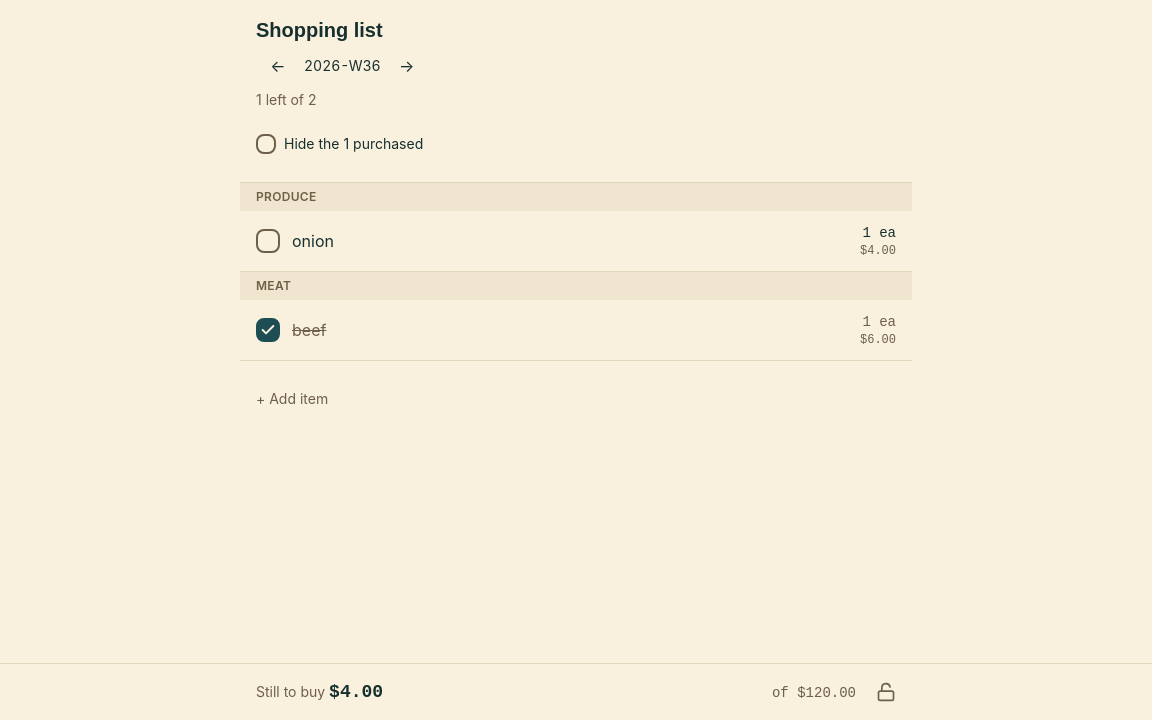
it: hiding what is already purchased › keeps a mis-tap recoverable, without turning hiding off
Click the checkbox labelled "Hide the 1 purchased" at (266, 144), box [256, 134, 276, 154]
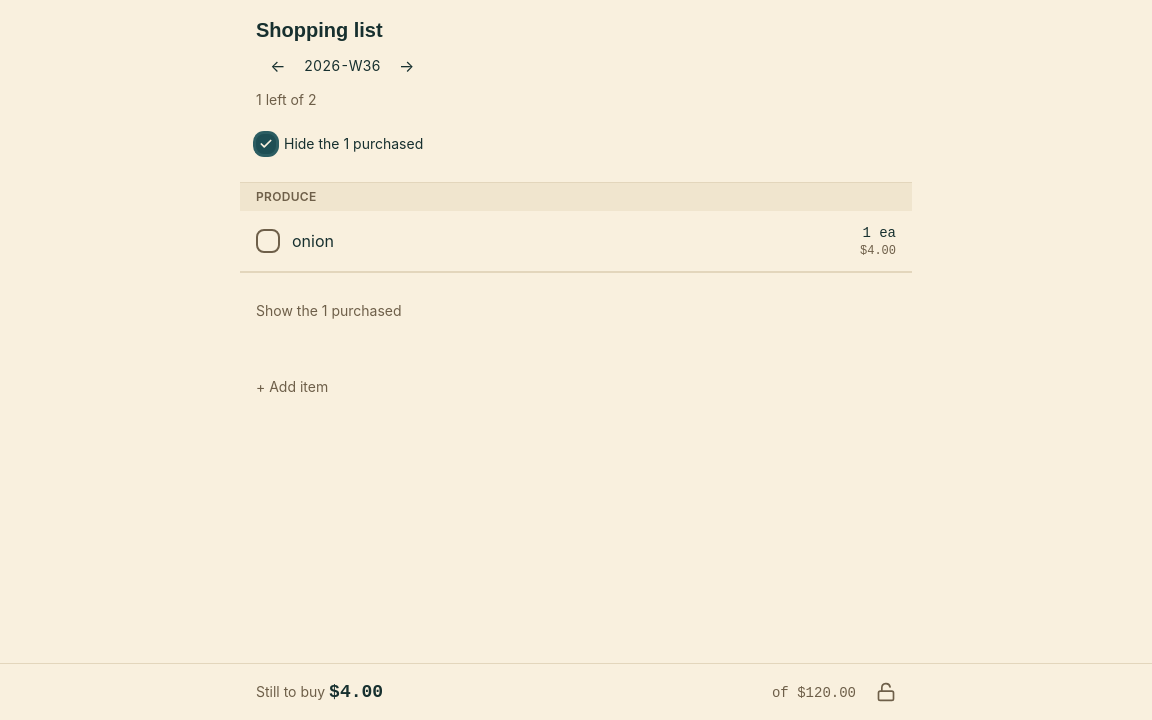
Click the button "Show the 1 purchased" at (329, 311), box [256, 289, 402, 333]
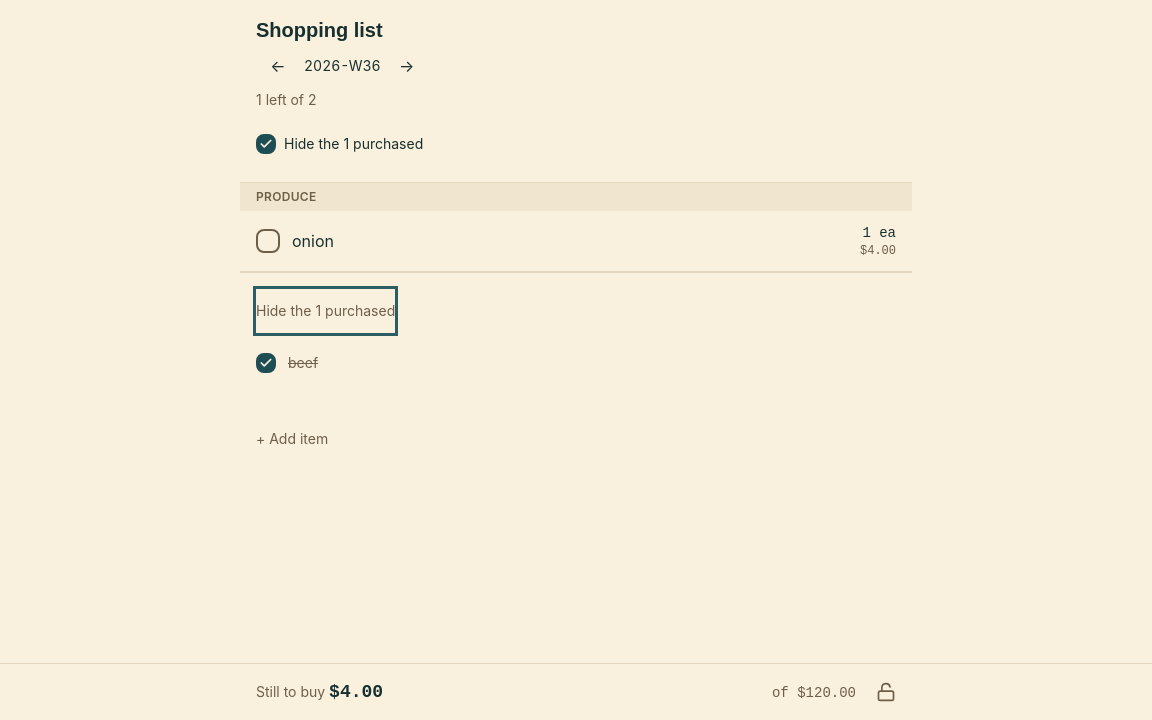
Check: the checkbox labelled "beef" is checked
Click the checkbox labelled "beef" at (266, 363), box [256, 353, 276, 373]
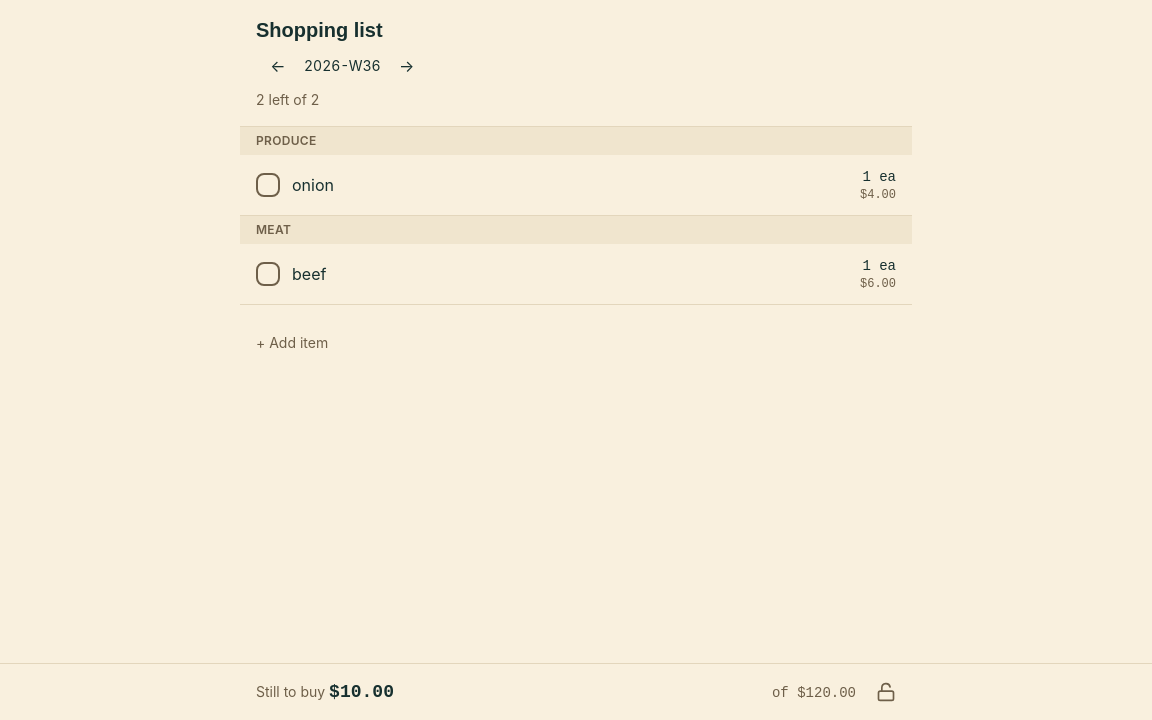
Check: the checkbox labelled "beef 1 ea $6.00" is not checked, box [256, 262, 280, 286]
